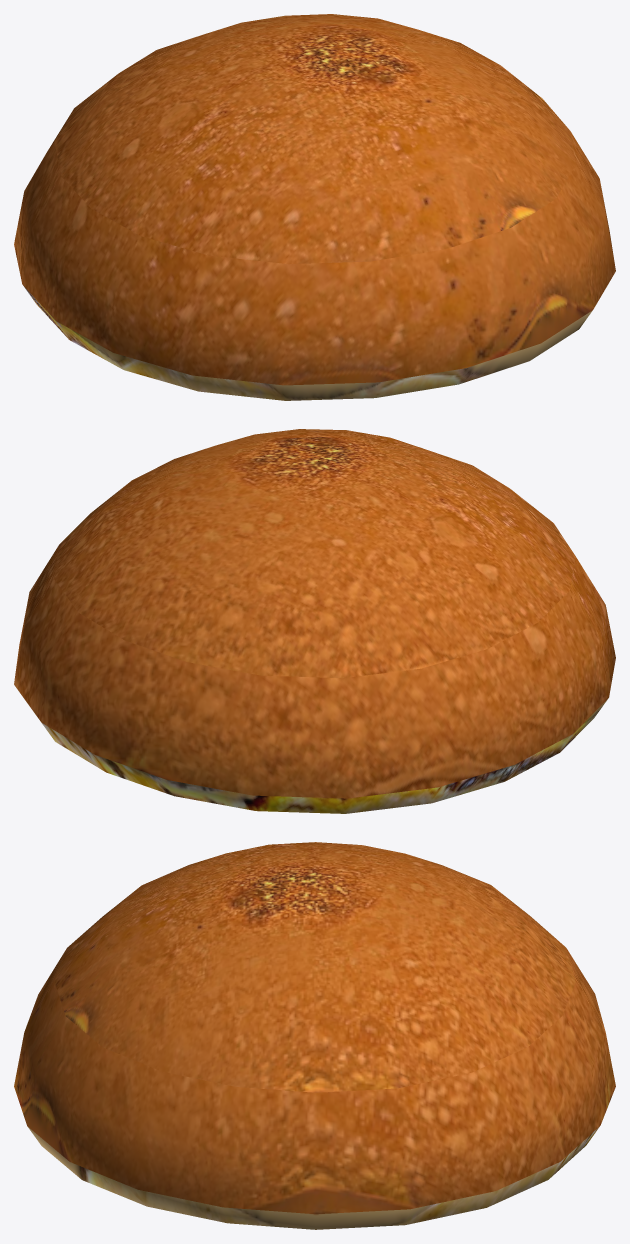
File: bun-top.glb
3 views of the same model, one above another, from view 1: azimuth 30°, elevation 25°; view 2: azimuth 150°, elevation 25°; view 3: azimuth 270°, elevation 25° (orthographic).
Parts seen in each view (by area): view 1: bun-top; view 2: bun-top; view 3: bun-top.
Part boxes in pixels (x1,y1,x2,y2): bun-top: [14, 14, 615, 400]; bun-top: [14, 429, 615, 813]; bun-top: [14, 842, 615, 1229].
Size of the model in its own units: 9.95 by 4.2 by 9.93.
Materials: 1 (1 with a texture image).
